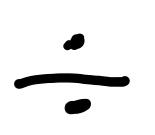div: (8, 35, 131, 113)
